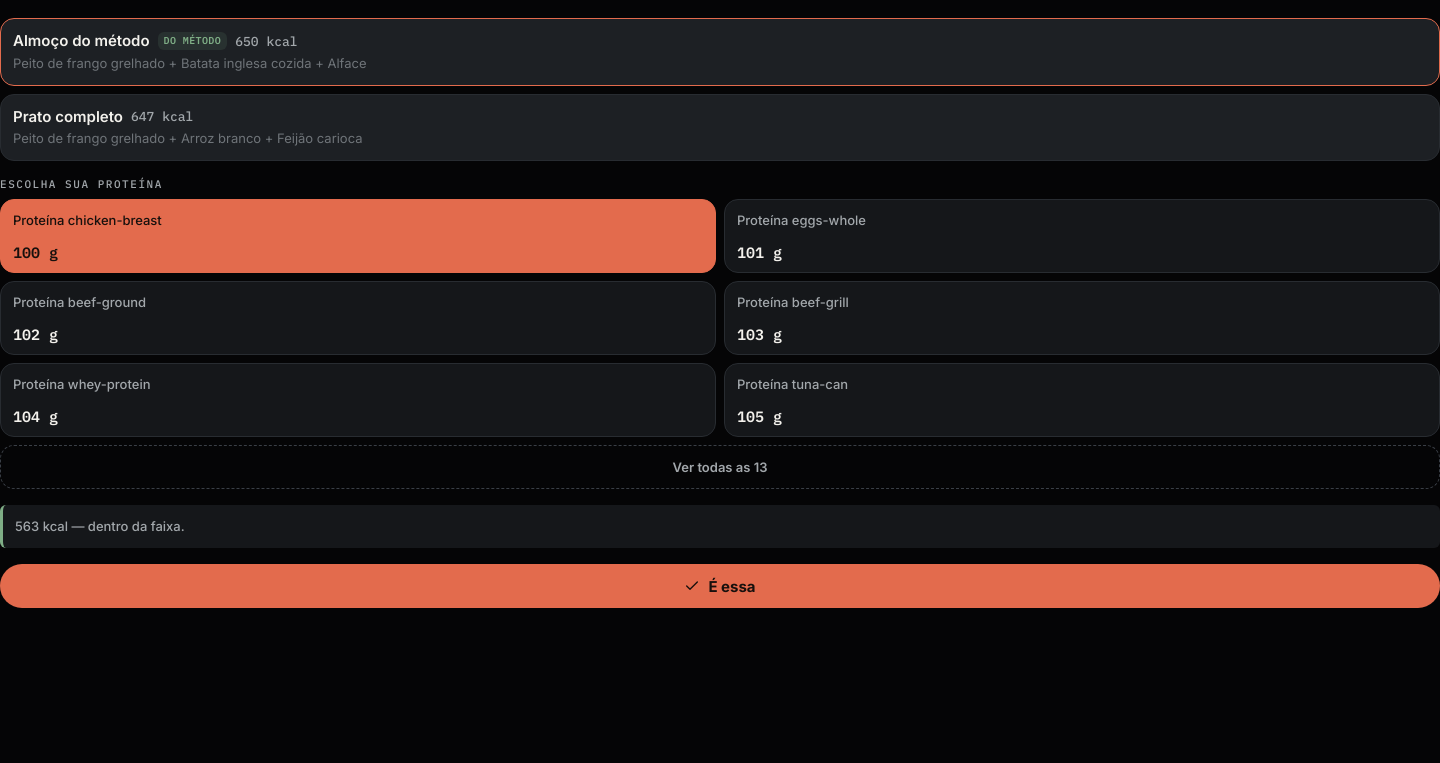
Test: ver todas abre a lista inteira, e fecha de novo
Later steps or results of the test are not shown.
Click the button with test id "mais-primary_protein": x=720, y=467 [0,445,1439,489]
(page scrolled)
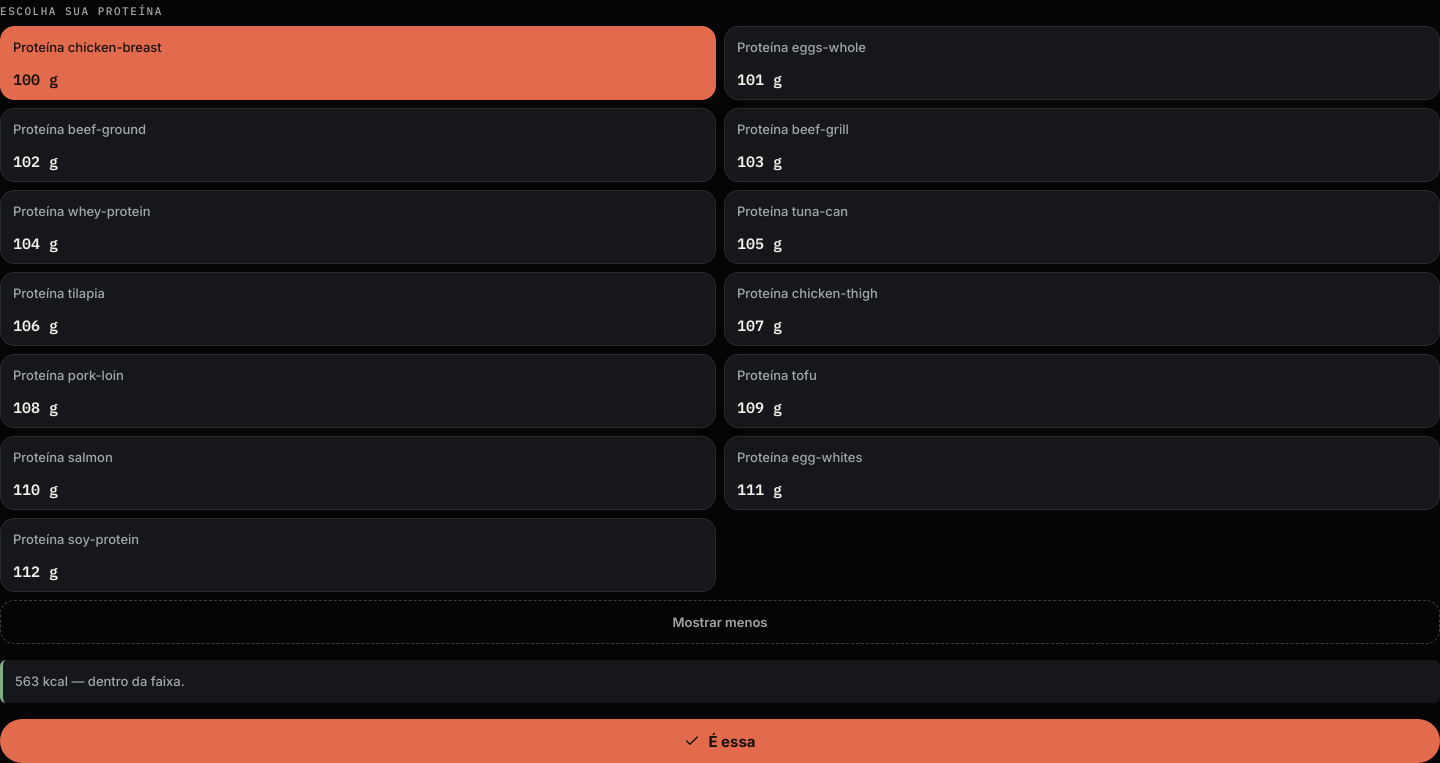
Result: the button with test id "mais-primary_protein" shows "menos" at [0,600,1439,644]
